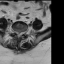CCS_normal: (17, 30, 19, 39)
LFS_normal: (21, 29, 23, 36)
LLS_normal: (19, 29, 21, 37)
RFS_normal: (14, 28, 16, 35)
RLS_normal: (16, 29, 18, 38)
